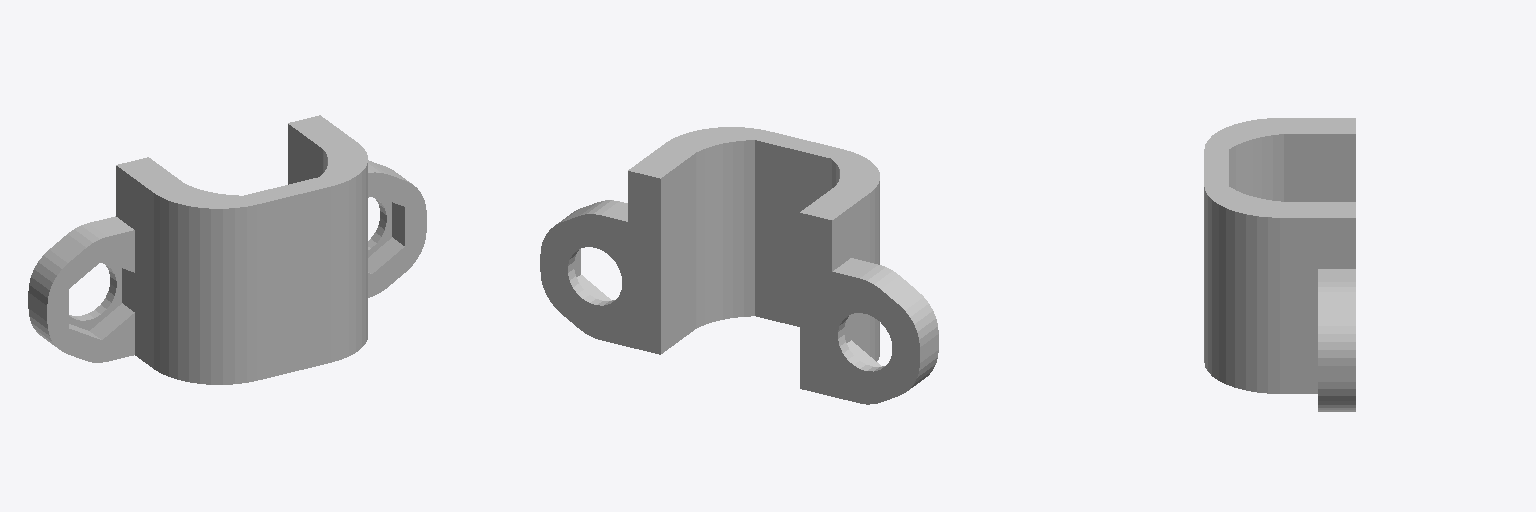
The model's file is Зажм двигателя.obj.
3 views of the same model, side by side, from view 1: azimuth 30°, elevation 25°; view 2: azimuth 150°, elevation 25°; view 3: azimuth 270°, elevation 25° (orthographic).
Parts seen in each view (by area): view 1: Твердое тело1; view 2: Твердое тело1; view 3: Твердое тело1.
Part boxes in pixels (x1,y1,x2,y2): Твердое тело1: (28,115,426,384); Твердое тело1: (540,127,938,404); Твердое тело1: (1204,118,1355,411).
Size of the model in its own units: 34.7 by 15.4 by 12.